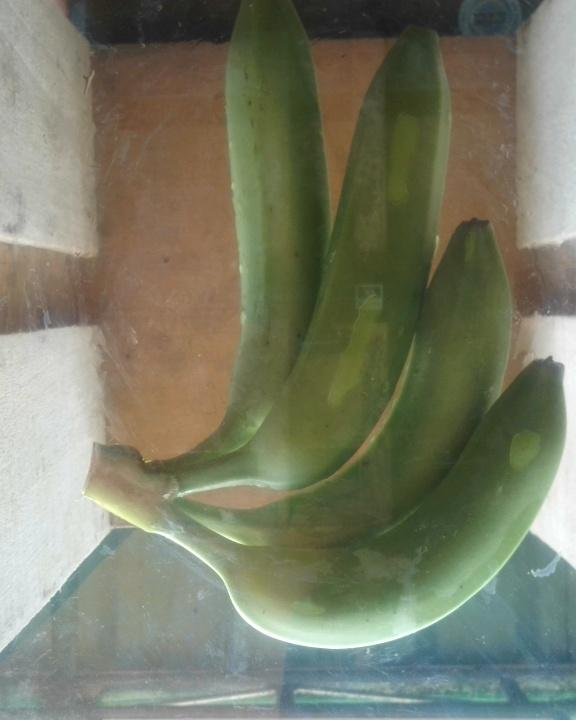SPOT: (102, 2, 576, 664)
